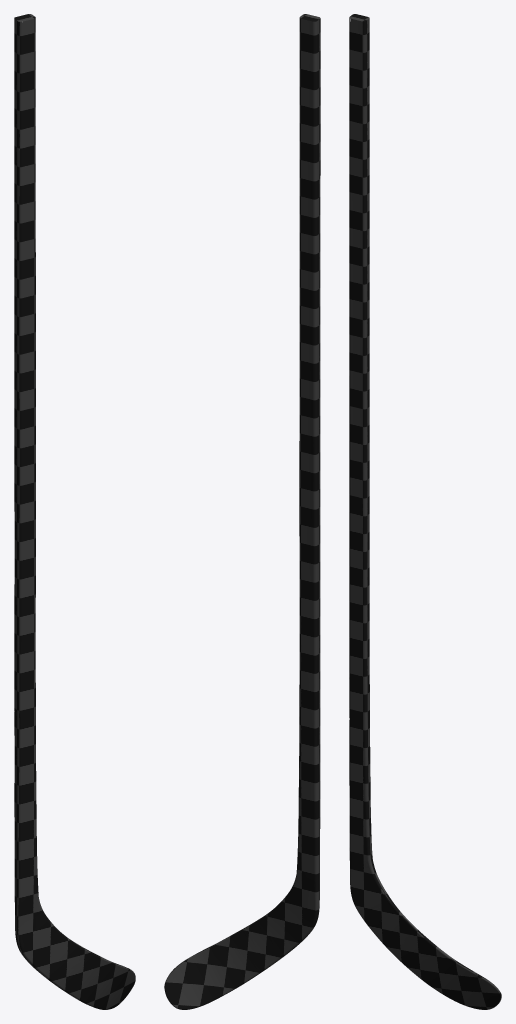
The picture shows the model from 3 angles, left to right: view 1: azimuth 30°, elevation 25°; view 2: azimuth 150°, elevation 25°; view 3: azimuth 330°, elevation 25°; orthographic projection. The views are drawn at different scales.
Parts seen in each view (by area): view 1: geometry_0; view 2: geometry_0; view 3: geometry_0.
Part boxes in pixels (left/top/right/bottom): geometry_0: left=14, top=14, right=135, bottom=1009; geometry_0: left=164, top=14, right=320, bottom=1009; geometry_0: left=349, top=14, right=501, bottom=1009.
Bounding box in the file's own units: 232 × 1650 × 74.61.
Materials: 1 (1 with a texture image).
